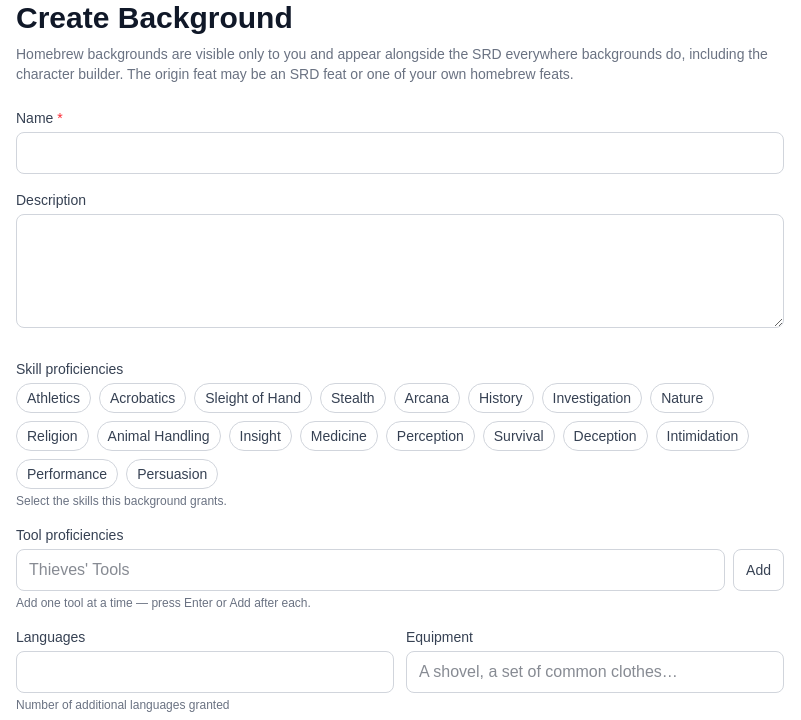
Test: SrdNewPage for a background › shows a disabled Saving... button while the create is still in flight
Type "Gravedigger" into the field labelled "Name *" at point(400, 153), box [16,132,784,174]
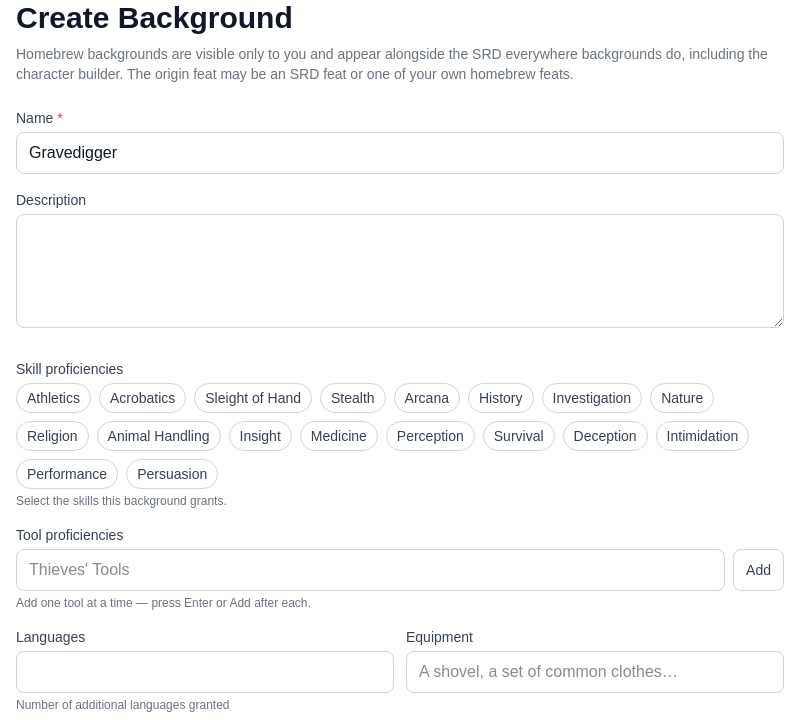
Click the button "Insight" at point(260, 436), box [228,421,292,451]
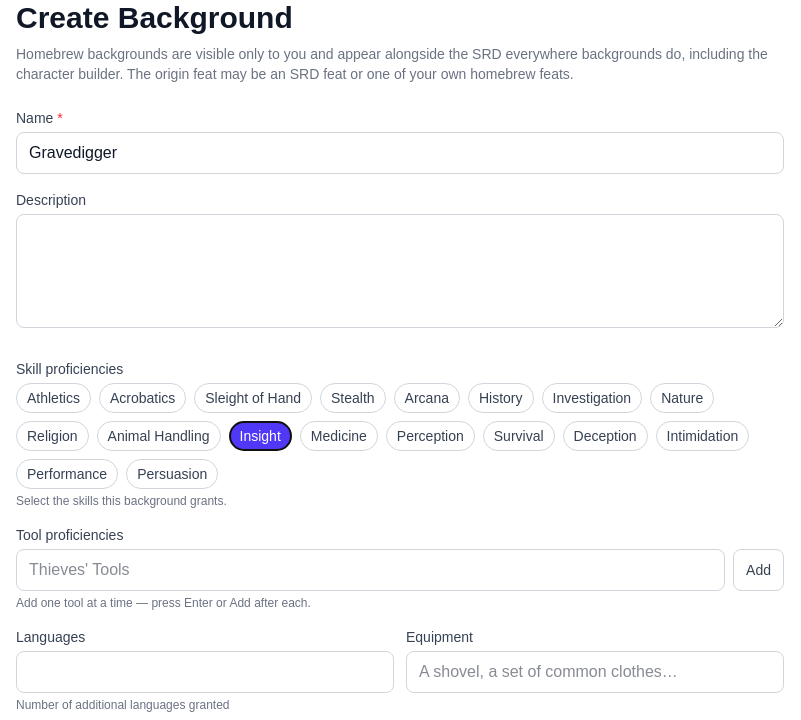
Click the button "Religion" at point(52, 436), box [16,421,89,451]
(page scrolled)
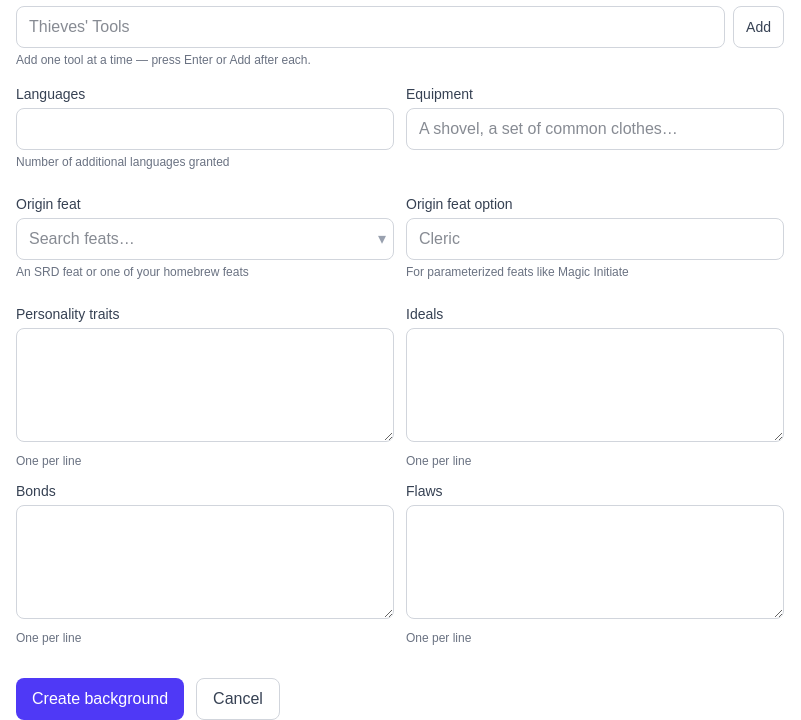
Click the button "Create background" at point(100, 699), box [16,678,184,719]
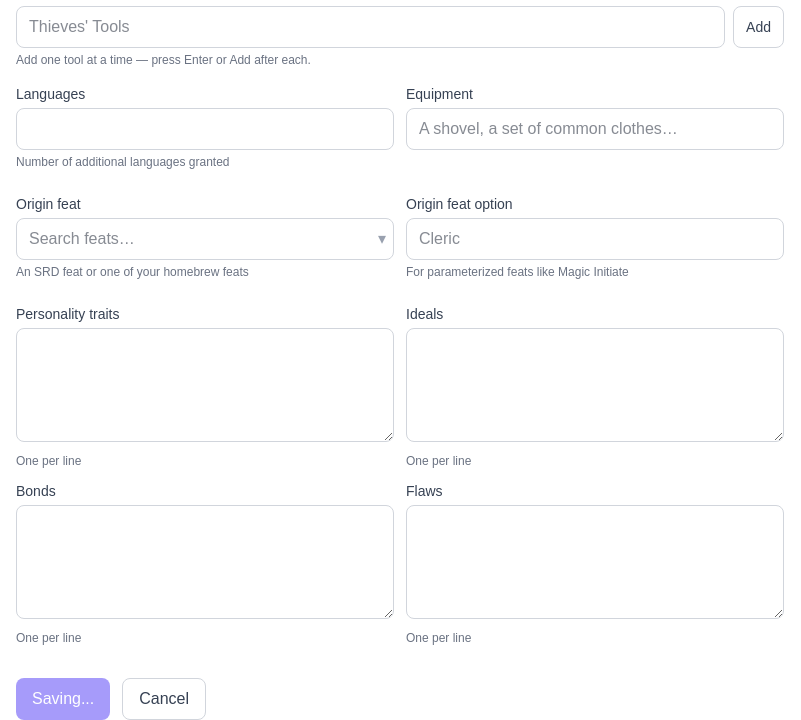
Result: the button "Saving..." is disabled at [16,678,110,719]
